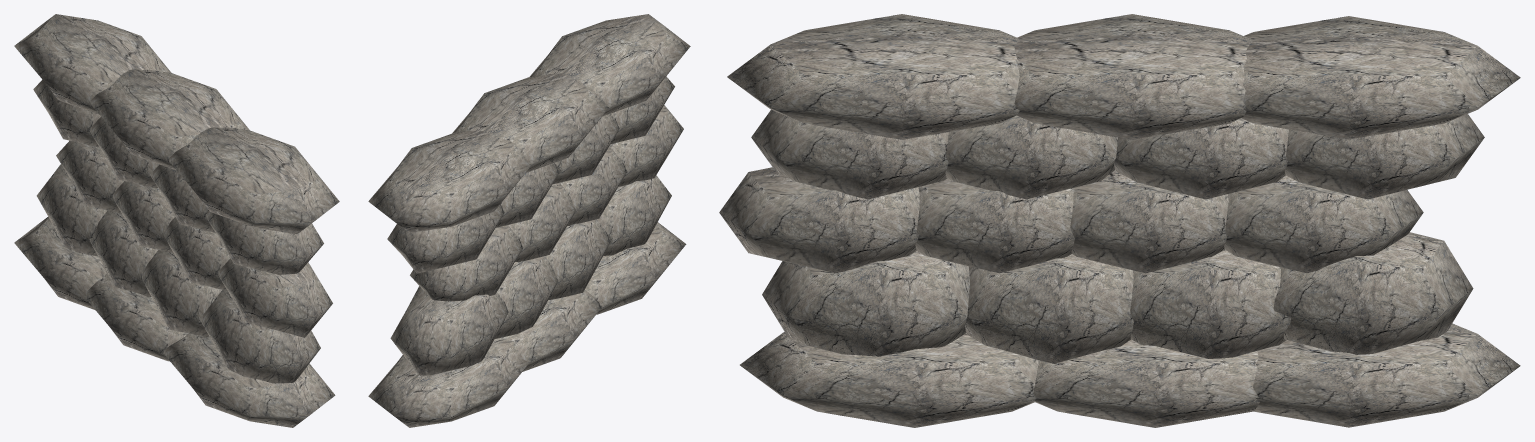
File: SM_RockFence.fbx
3 renders of one model, left to right at view 1: azimuth 30°, elevation 25°; view 2: azimuth 150°, elevation 25°; view 3: azimuth 270°, elevation 25°, orthographic. The views are drawn at different scales.
Visible parts, largest first — view 1: Box001; view 2: Box001; view 3: Box001.
Part boxes in pixels (x1=…): Box001: x1=14, y1=14, x2=339, y2=427; Box001: x1=368, y1=14, x2=690, y2=427; Box001: x1=719, y1=14, x2=1520, y2=427.
Size of the model in its own units: 10 by 21.59 by 41.83.
